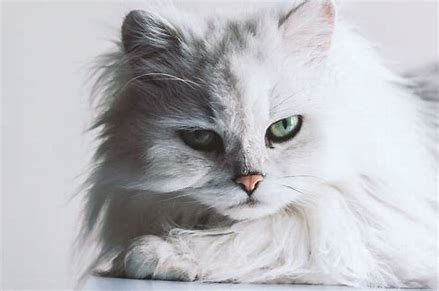cat: (70, 2, 395, 285)
